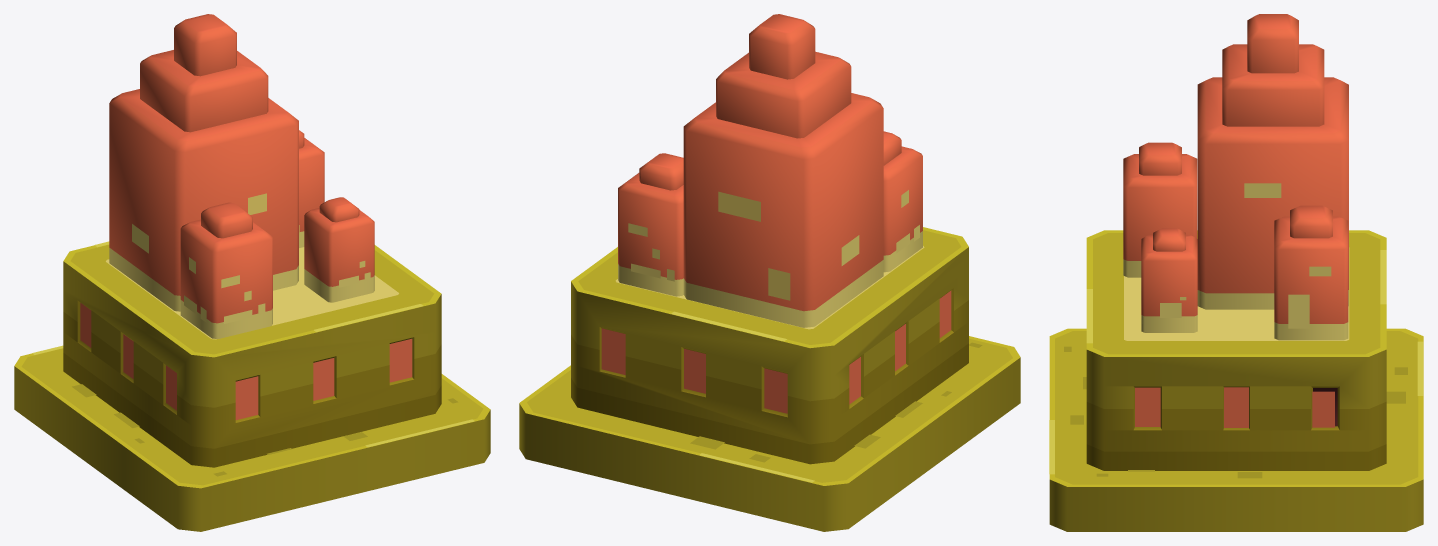
Rendered from pvpd_BlazingBonfire_03.obj.
3 renders of one model, left to right at view 1: azimuth 30°, elevation 25°; view 2: azimuth 150°, elevation 25°; view 3: azimuth 270°, elevation 25°, orthographic. The views are drawn at different scales.
Visible parts, largest first — view 1: pvpd_BlazingBonfire_03; view 2: pvpd_BlazingBonfire_03; view 3: pvpd_BlazingBonfire_03.
Boxes of the visible parts, x1,y1,x2,y2 form: pvpd_BlazingBonfire_03: [14, 14, 490, 531]; pvpd_BlazingBonfire_03: [519, 14, 1020, 531]; pvpd_BlazingBonfire_03: [1049, 14, 1423, 531].
Size of the model in its own units: 3 by 3.69 by 3.
Materials: 1 (1 with a texture image).
